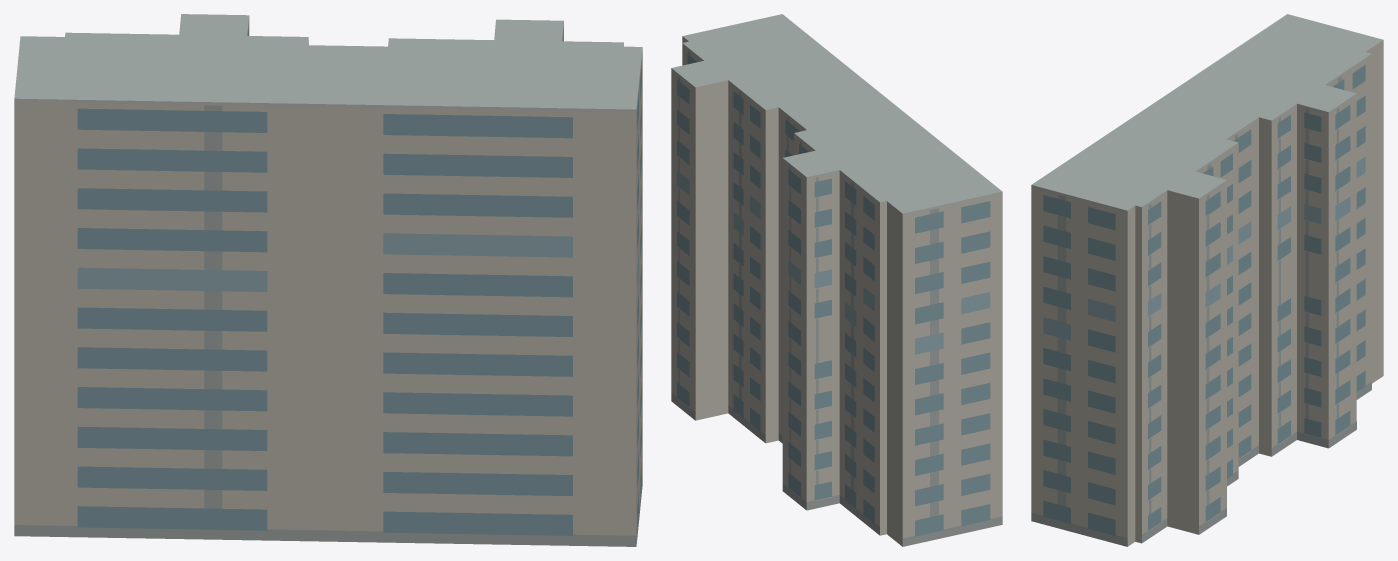
The model's file is residential-82e15fd4-a047-446e-bc4c-867e2f8f70c3.glb.
The picture shows the model from 3 angles, left to right: view 1: azimuth 30°, elevation 25°; view 2: azimuth 150°, elevation 25°; view 3: azimuth 270°, elevation 25°; orthographic projection. The views are drawn at different scales.
Visible parts, largest first — view 1: residential-82e15fd4-a047-446e-bc4c-867e2f8f70c3.tmp; view 2: residential-82e15fd4-a047-446e-bc4c-867e2f8f70c3.tmp; view 3: residential-82e15fd4-a047-446e-bc4c-867e2f8f70c3.tmp.
Part boxes in pixels (x1,y1,x2,y2): residential-82e15fd4-a047-446e-bc4c-867e2f8f70c3.tmp: [14, 14, 642, 546]; residential-82e15fd4-a047-446e-bc4c-867e2f8f70c3.tmp: [671, 14, 1002, 546]; residential-82e15fd4-a047-446e-bc4c-867e2f8f70c3.tmp: [1031, 14, 1383, 546].
Bounding box in the file's own units: 40.15 × 32 × 30.39.
